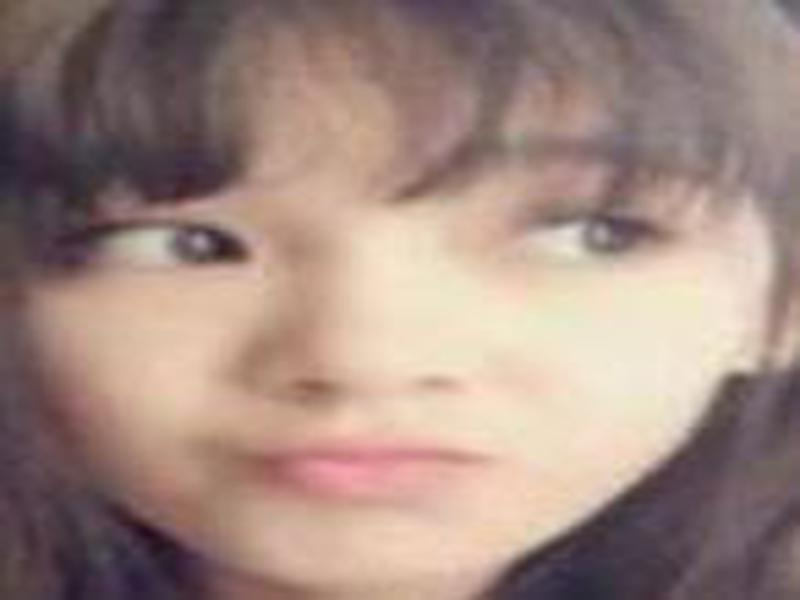without_mask: (10, 91, 744, 584)
